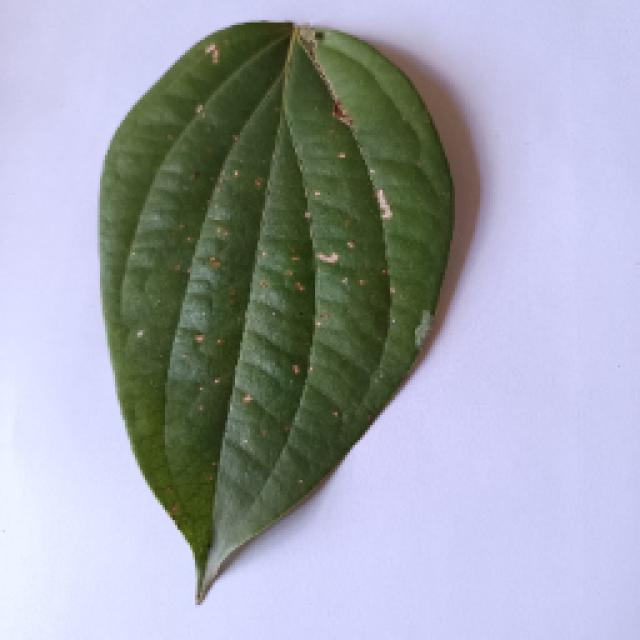pollu-disease: (68, 32, 480, 602)
